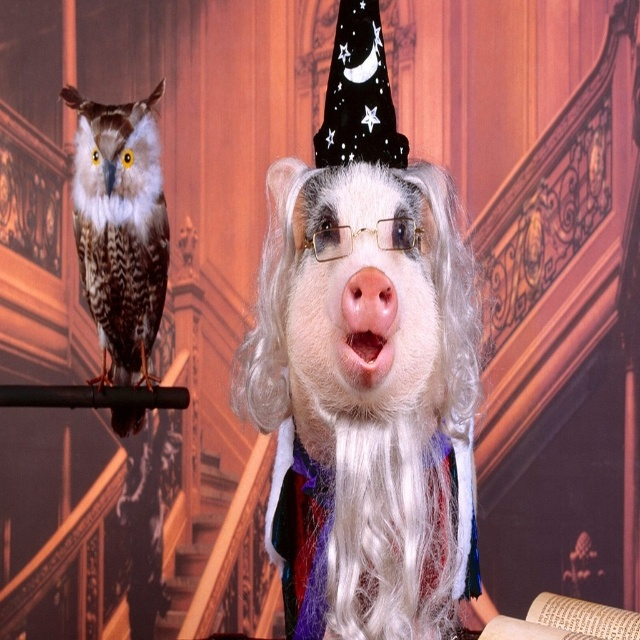Owl: (62, 76, 168, 440)
